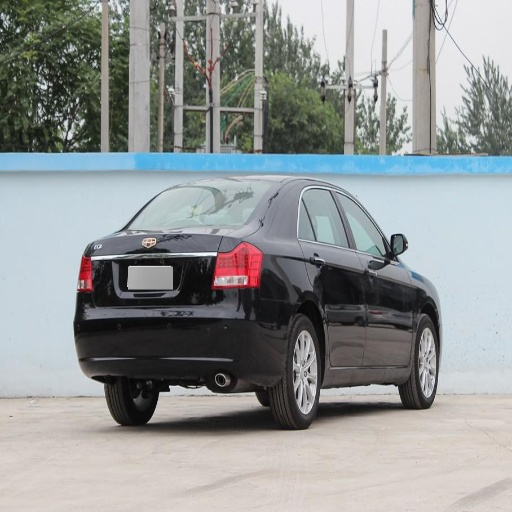back_bumper: (76, 289, 289, 383)
back_right_door: (298, 181, 364, 372)
tailgate: (91, 231, 214, 305)
trunk: (91, 238, 220, 328)
